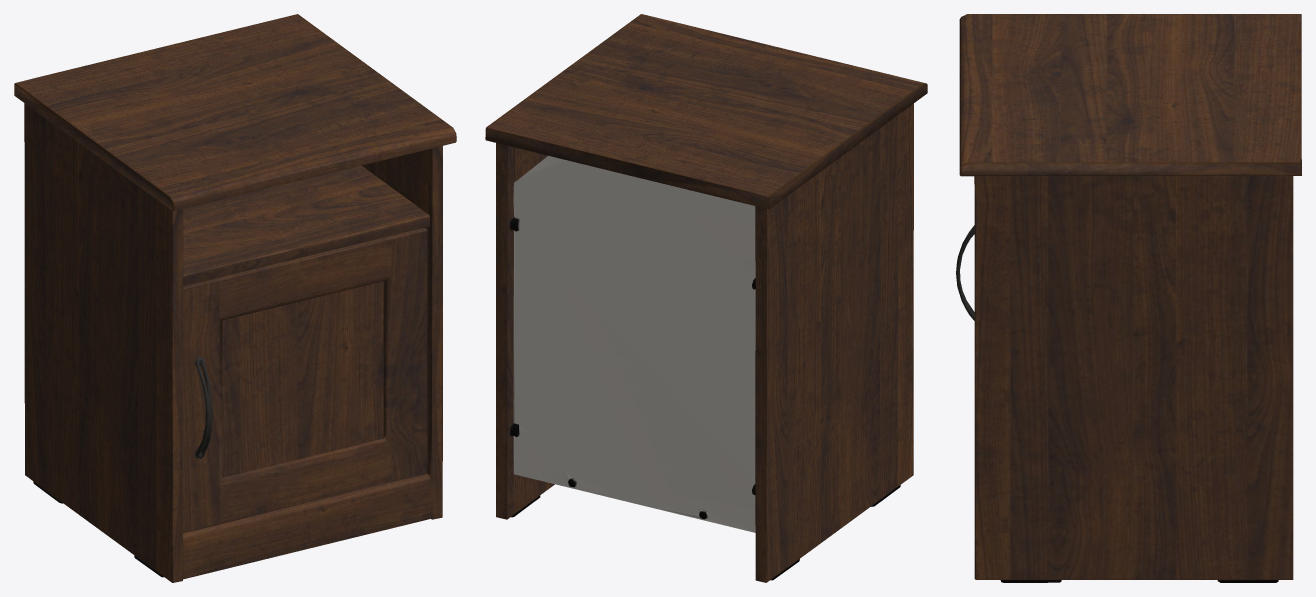
File: SONGESAND nightstand.glb
3 renders of one model, left to right at view 1: azimuth 30°, elevation 25°; view 2: azimuth 150°, elevation 25°; view 3: azimuth 270°, elevation 25°, orthographic. The views are drawn at different scales.
Parts seen in each view (by area): view 1: ProcessedMeshNode; view 2: ProcessedMeshNode; view 3: ProcessedMeshNode.
Boxes of the visible parts, left/top/right/bottom form: ProcessedMeshNode: left=14, top=14, right=456, bottom=582; ProcessedMeshNode: left=485, top=14, right=927, bottom=582; ProcessedMeshNode: left=956, top=14, right=1301, bottom=582.
Size of the model in its own units: 0.4162 by 0.5522 by 0.4076.
Materials: 1 (1 with a texture image).
